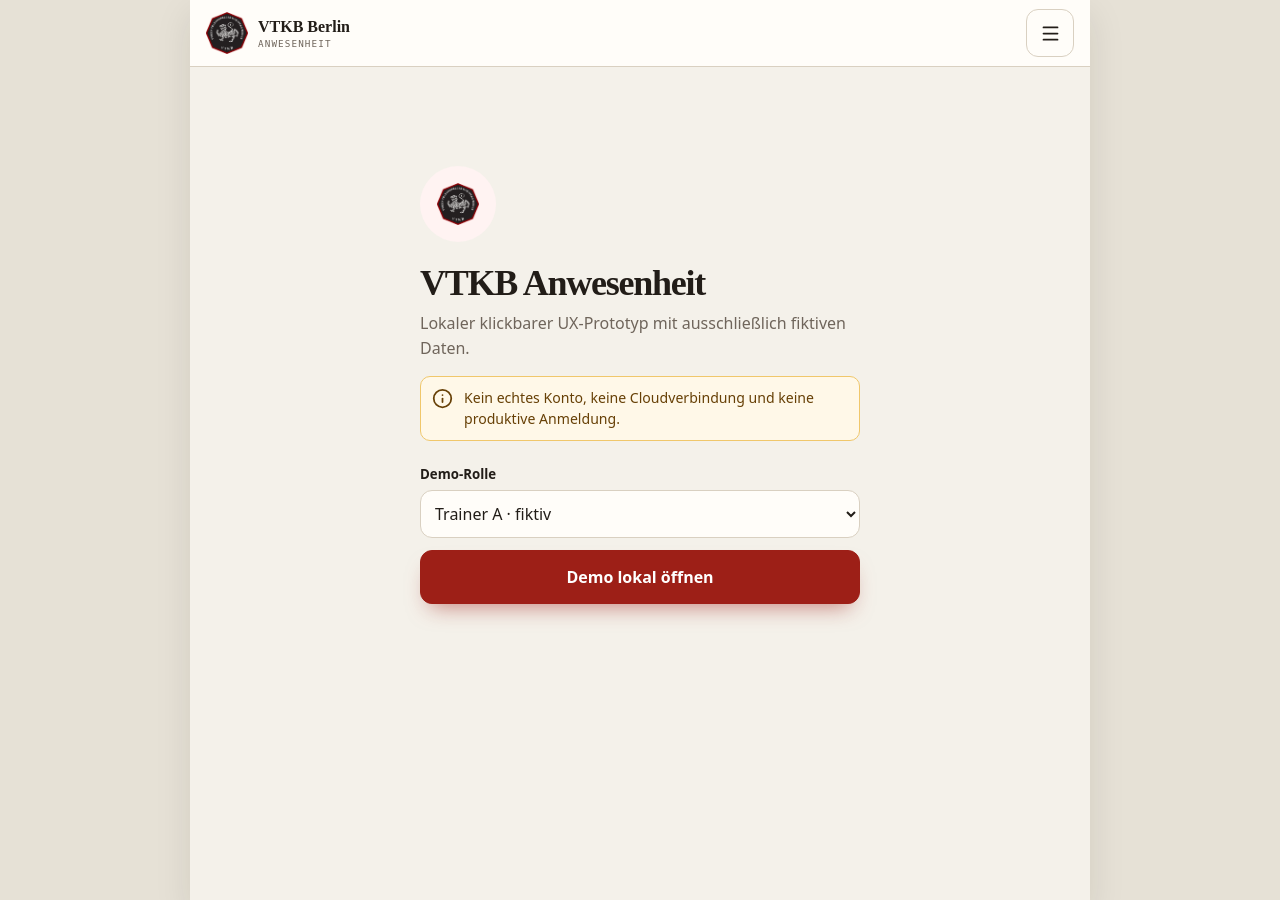
Scenario: klickbarer Paket-1-Prototyp › begrenzt die Trainer-Demoansicht auf die eigene Abrechnung
The image size is (1280, 900).
Click the button "Demo lokal öffnen".
click(640, 577)  # box top-left (420, 550), bottom-right (860, 604)
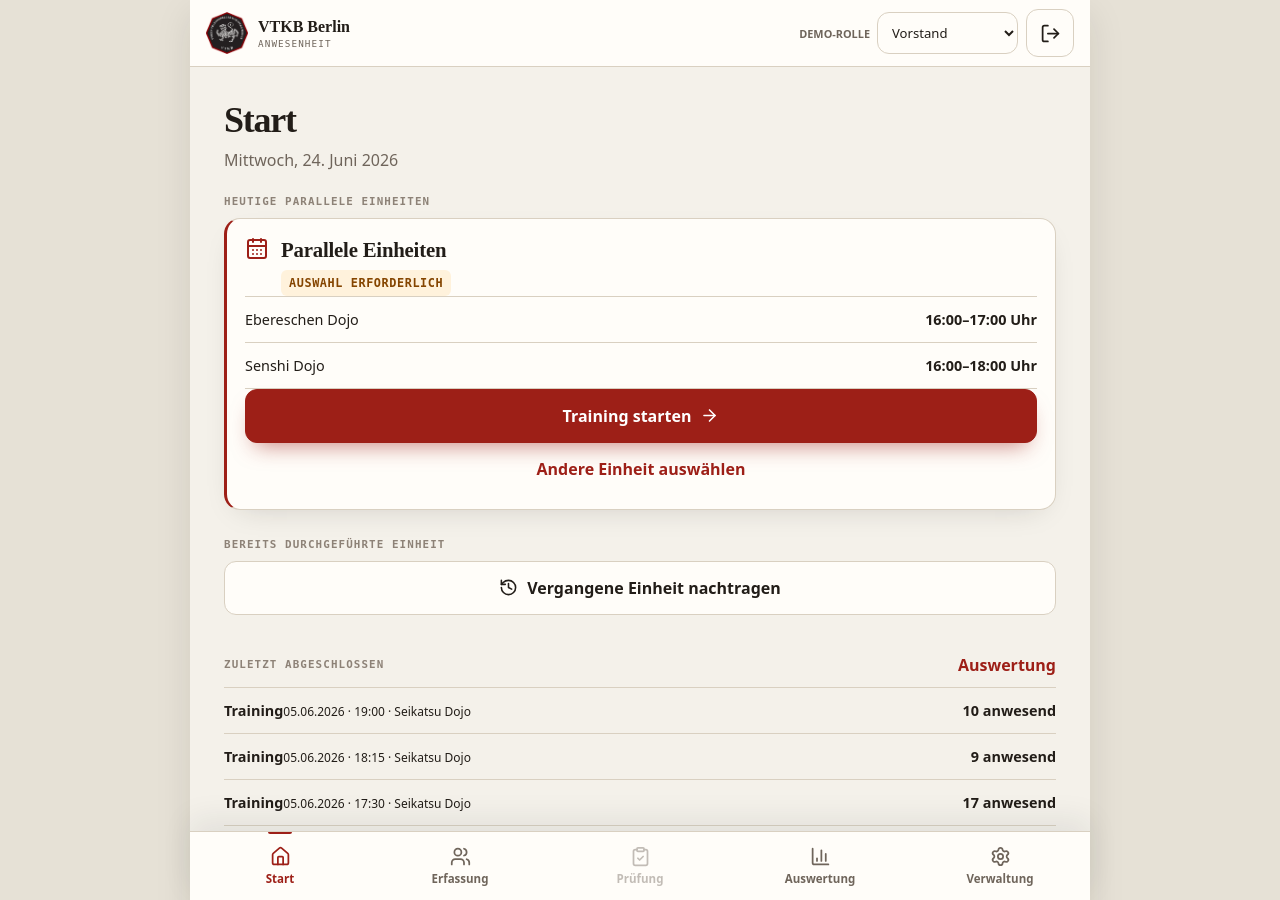
Select "Trainer" in the dropdown named "Demo-Rolle wechseln" at (948, 33), box top-left (877, 12), bottom-right (1018, 54)
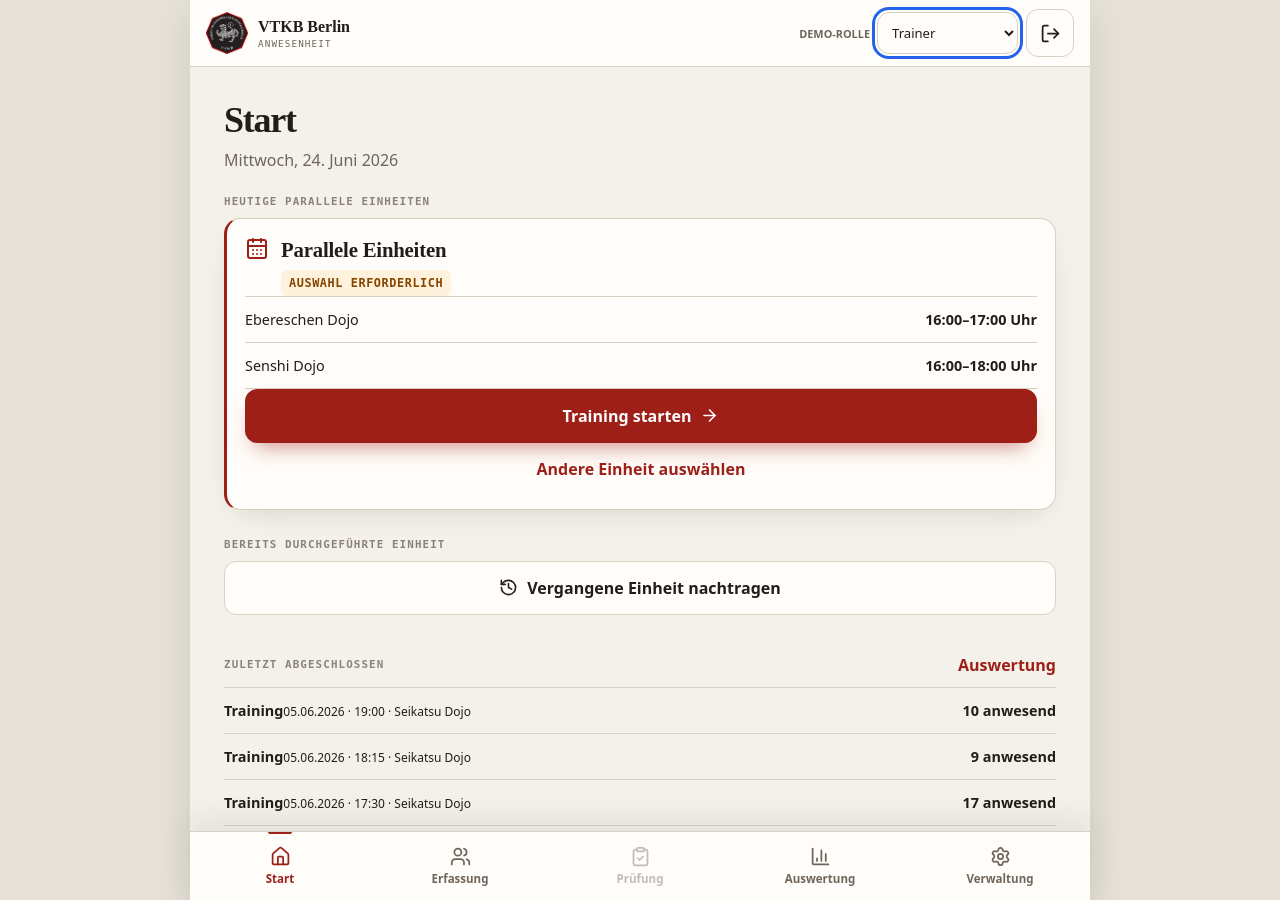
Click the 2nd button "Auswertung".
click(820, 866)  # box top-left (730, 832), bottom-right (910, 899)
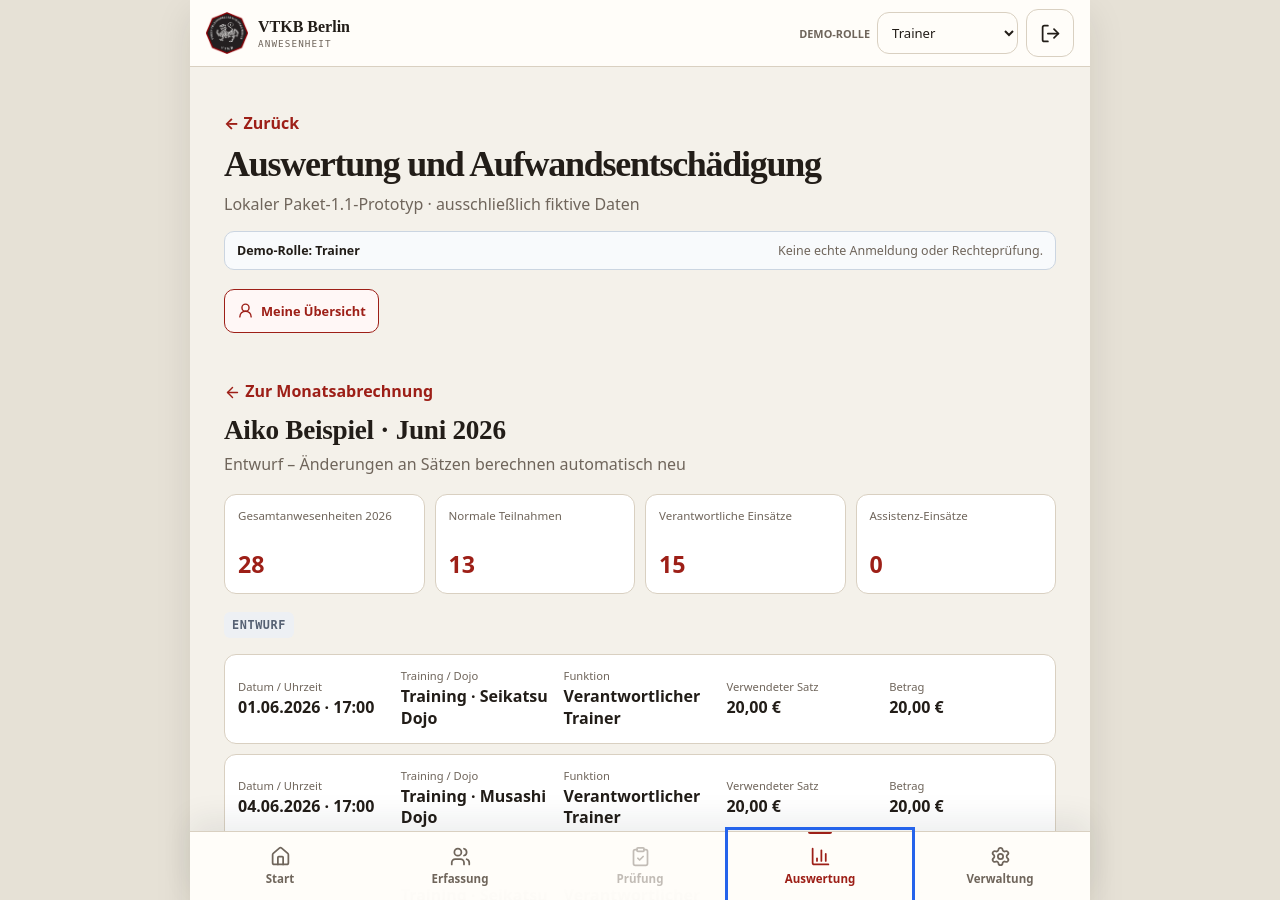
Expected: the button "Meine Übersicht" is shown, top-left (224, 289), bottom-right (379, 333)
Expected: the heading "Aiko Beispiel · Juni 2026" is shown, top-left (224, 415), bottom-right (506, 445)
